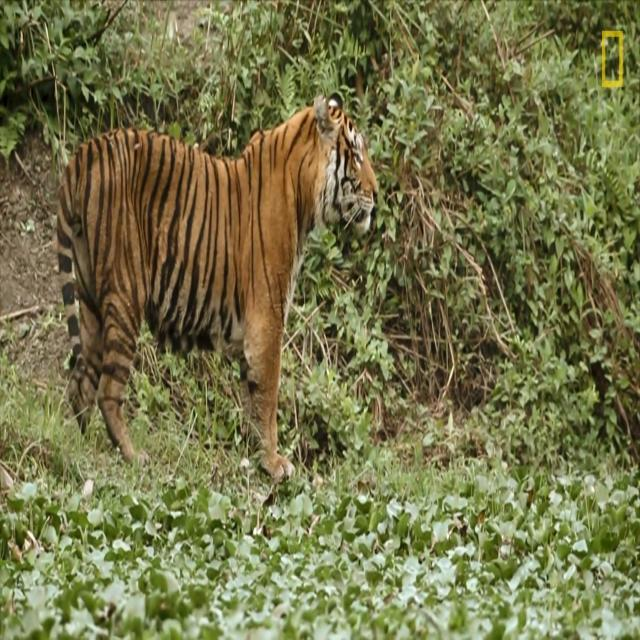TIGER: (52, 87, 380, 479)
